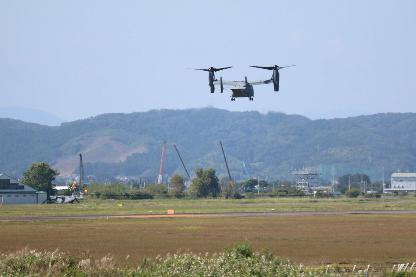Tornado: (185, 65, 295, 101), (42, 183, 82, 203)
